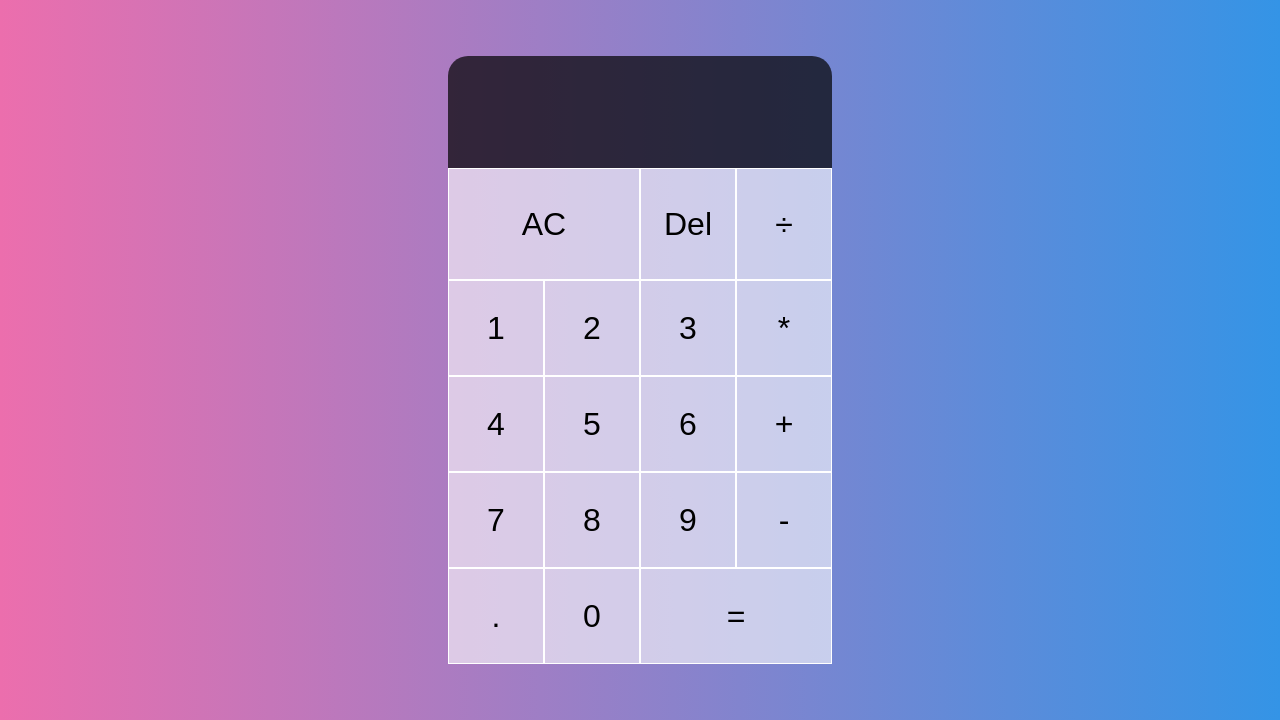
Scenario: When press › Digit Button › Start new operation
What coordinates should you click on to do the following:
click the button "8"
I would click on:
 (592, 520)
Its box is [544,472,640,568].
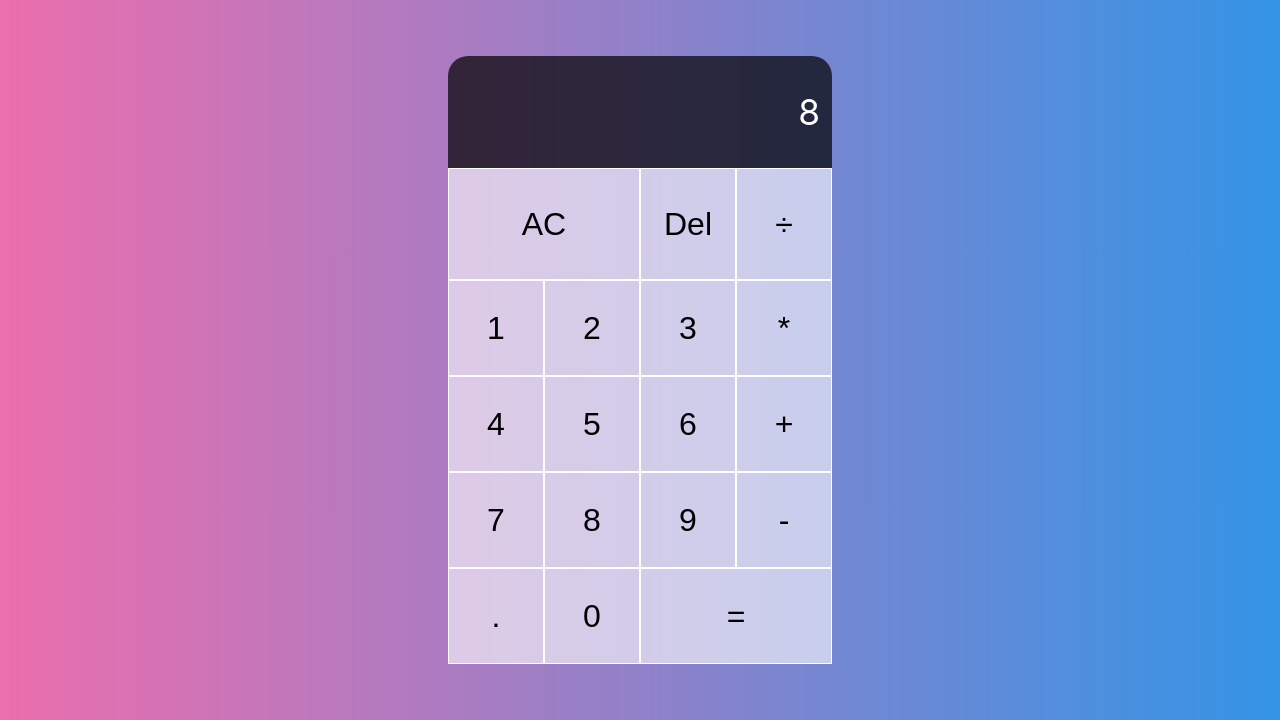
What coordinates should you click on to do the following:
click the button "+"
I would click on:
 (784, 424)
Its box is [736,376,832,472].
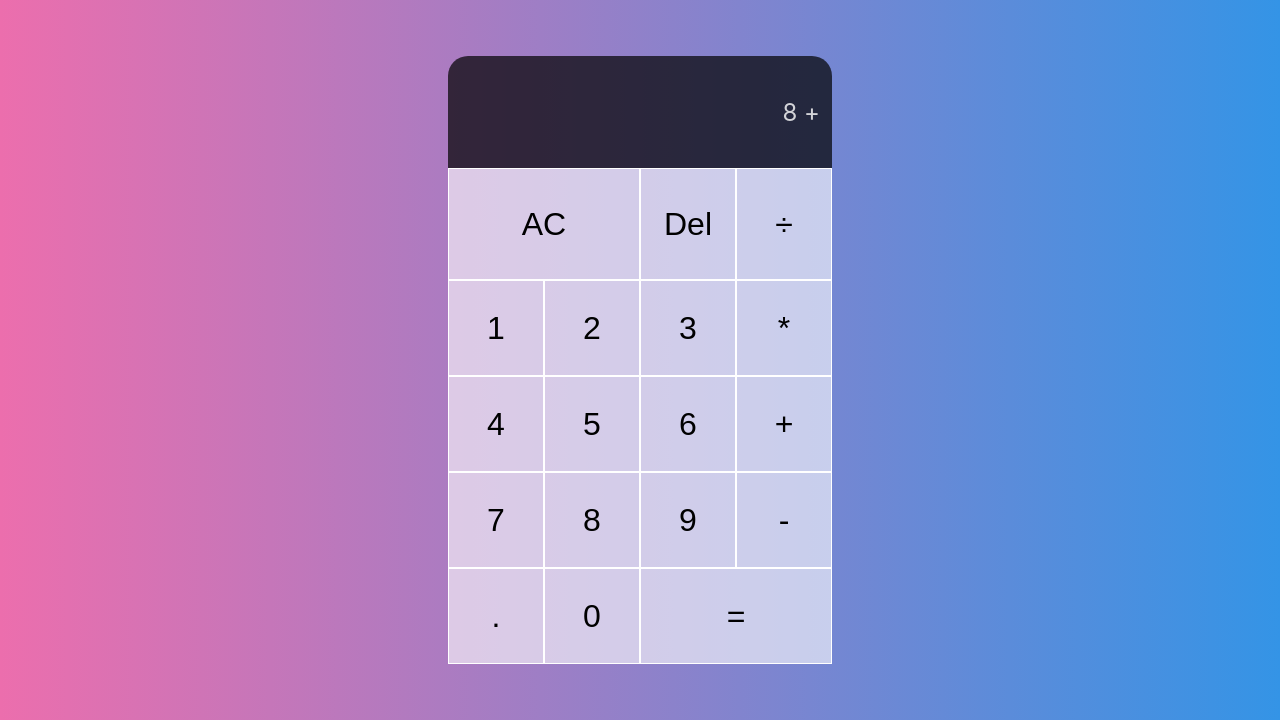
What coordinates should you click on to do the following:
click the button "2"
I would click on:
 (592, 328)
Its box is [544,280,640,376].
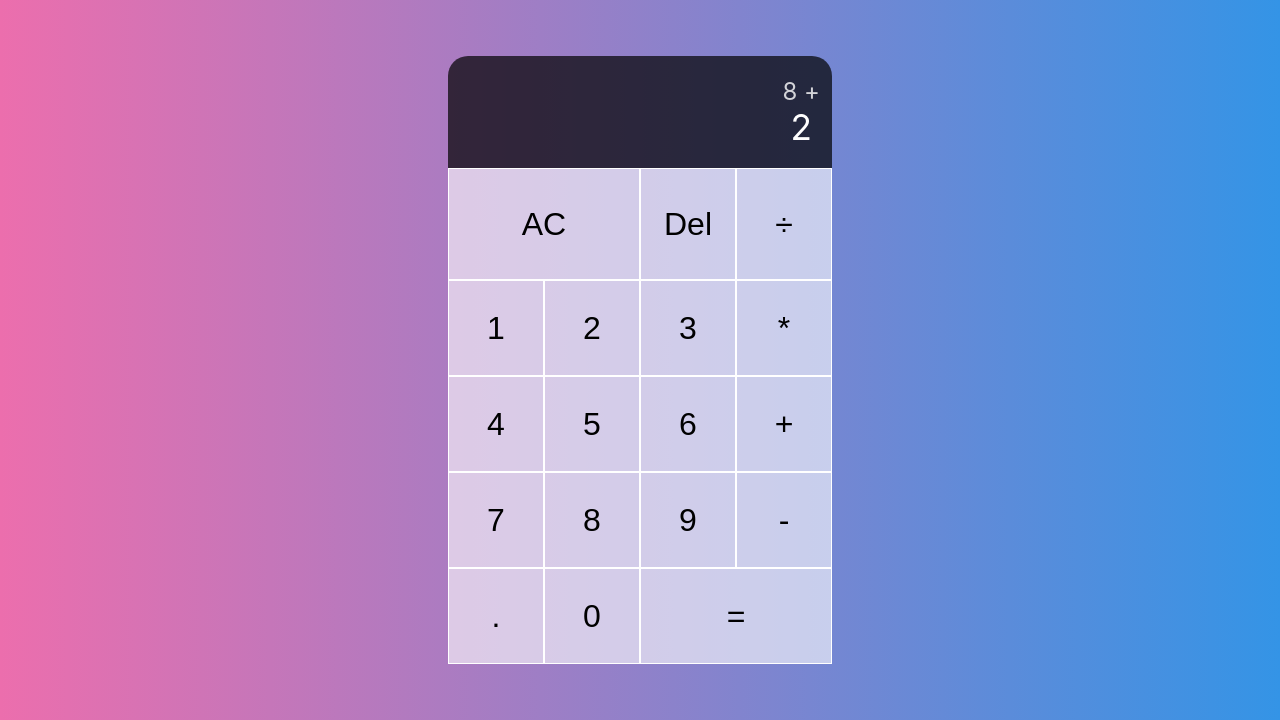
What coordinates should you click on to do the following:
click the button "="
I would click on:
 (736, 616)
Its box is [640,568,832,664].
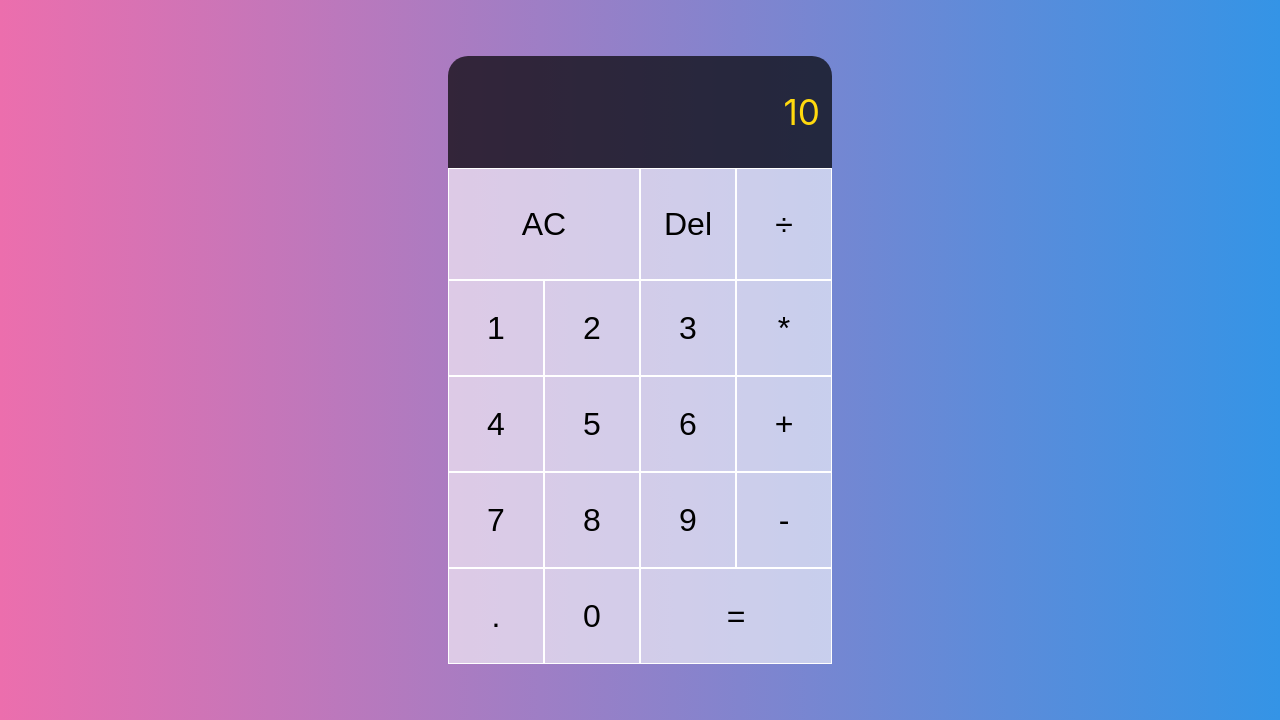
What coordinates should you click on to do the following:
click the button "2"
I would click on:
 (592, 328)
Its box is [544,280,640,376].
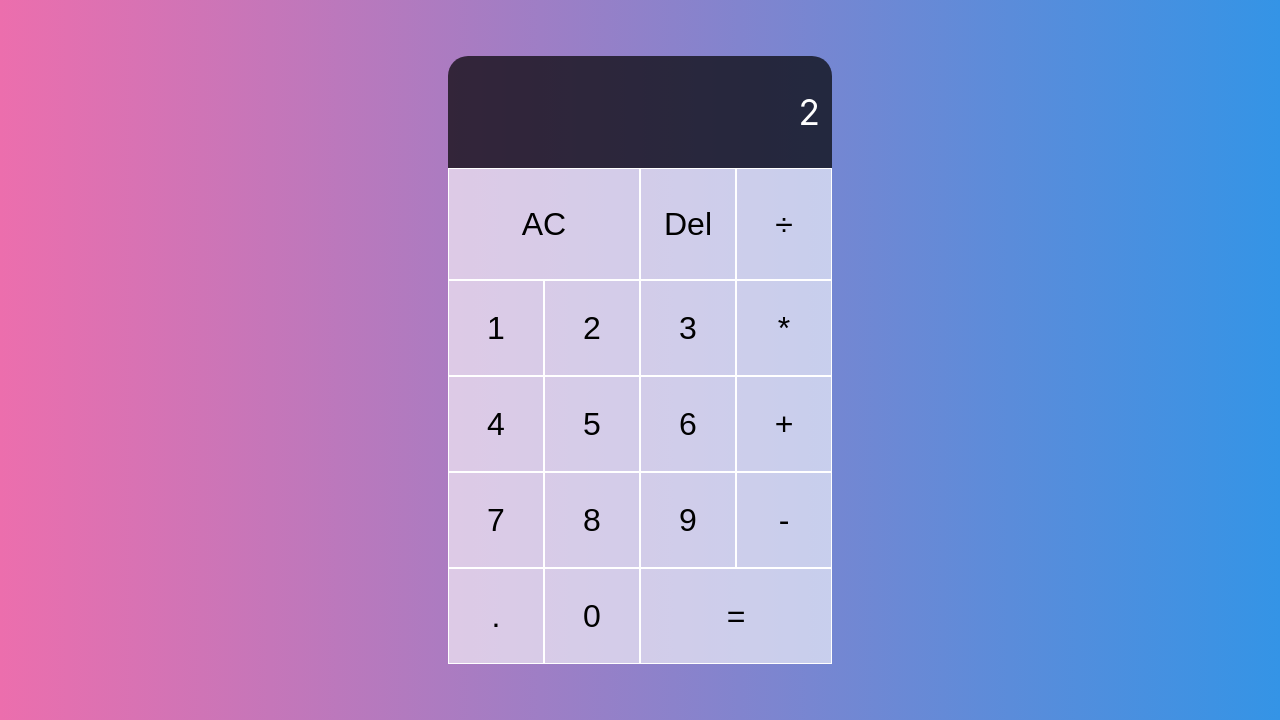
Expected: the text with test id "current" reads "2", [798,91,820,133]
